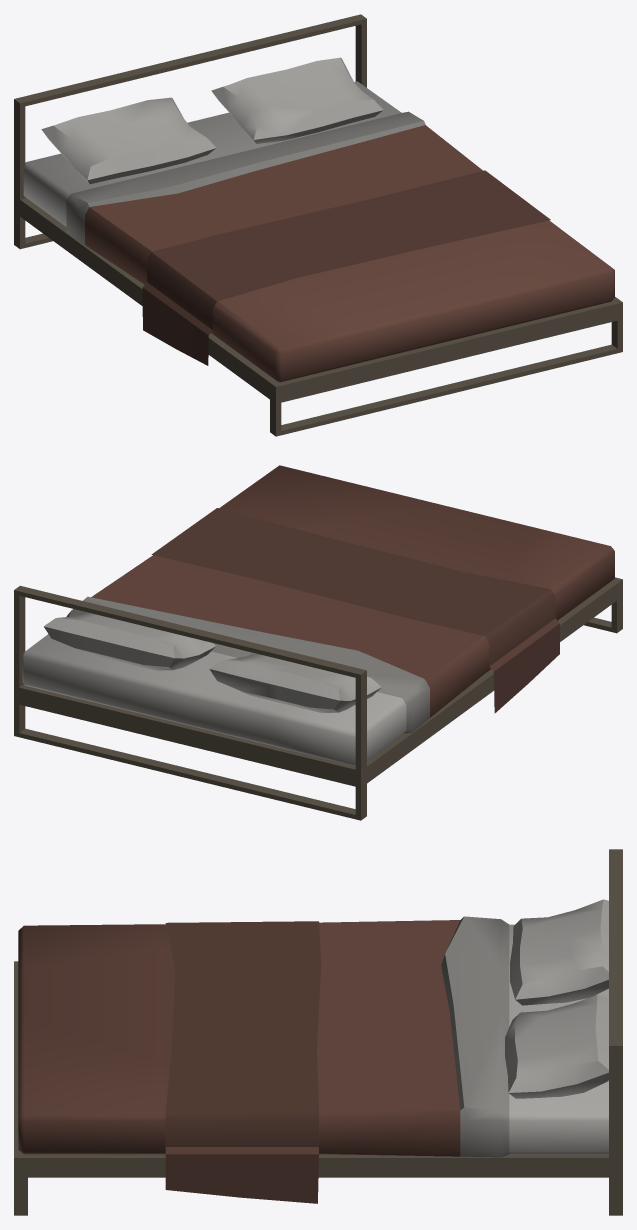
The model's file is bed-king.glb.
3 views of the same model, one above another, from view 1: azimuth 30°, elevation 25°; view 2: azimuth 150°, elevation 25°; view 3: azimuth 270°, elevation 25° (orthographic). The views are drawn at different scales.
Parts seen in each view (by area): view 1: Bed_King; view 2: Bed_King; view 3: Bed_King.
Part boxes in pixels (x1,y1,x2,y2): Bed_King: [14, 14, 622, 436]; Bed_King: [14, 465, 622, 820]; Bed_King: [14, 849, 622, 1215].
Bounding box in the file's own units: 3.06 × 1.21 × 3.95.
